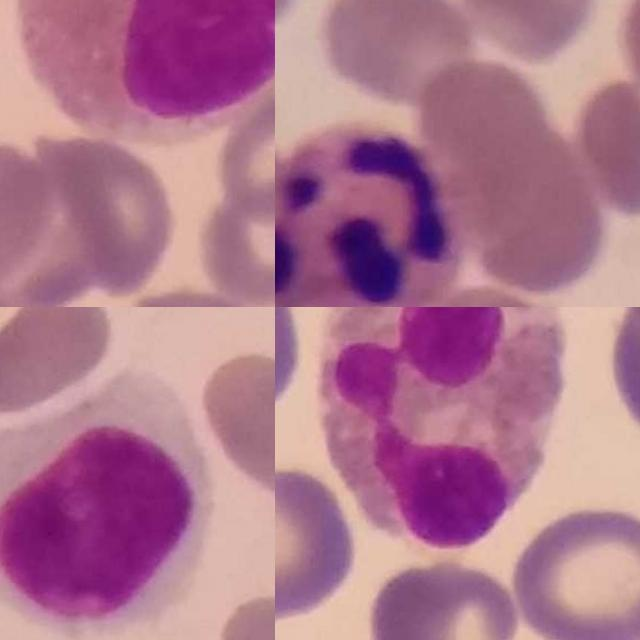Eosinophil: (322, 307, 563, 553), (14, 0, 275, 151)
Lymphocyte: (0, 366, 217, 640)
Neutrophil: (275, 122, 460, 307)
